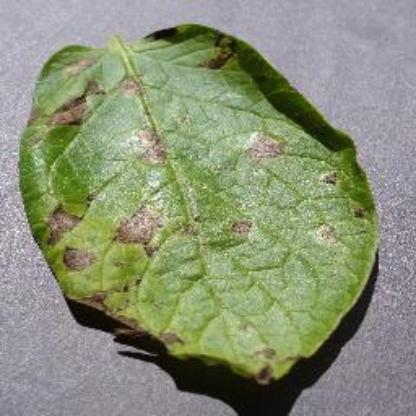Early-Blight: (16, 19, 380, 392)
